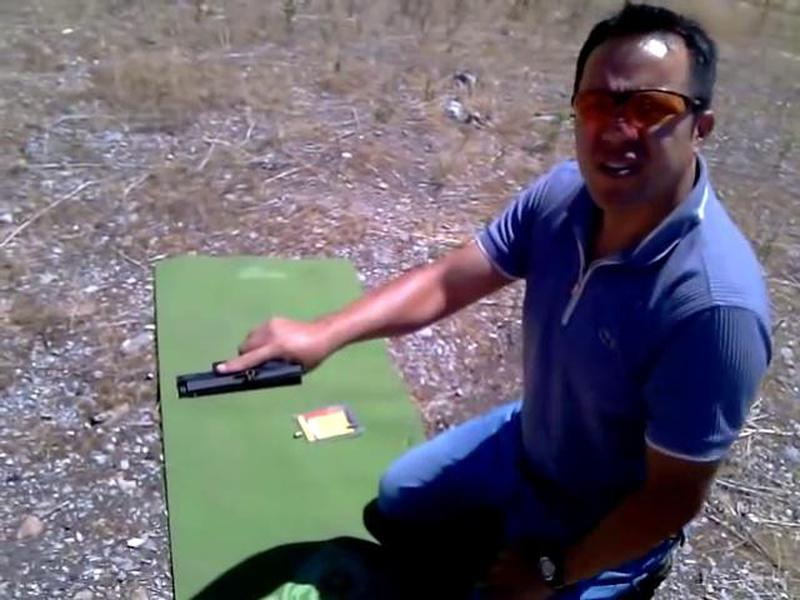Pistola: (163, 320, 317, 420)
